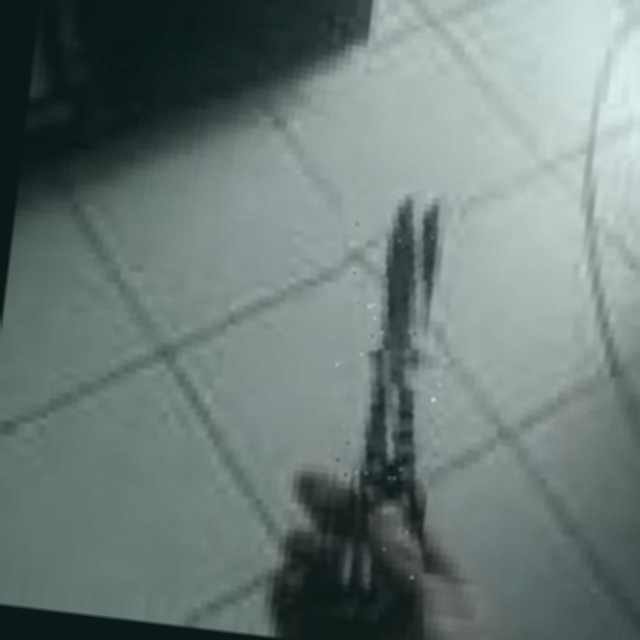Sharp-Object: (303, 188, 462, 640)
